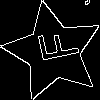F: (28, 27, 80, 66)
